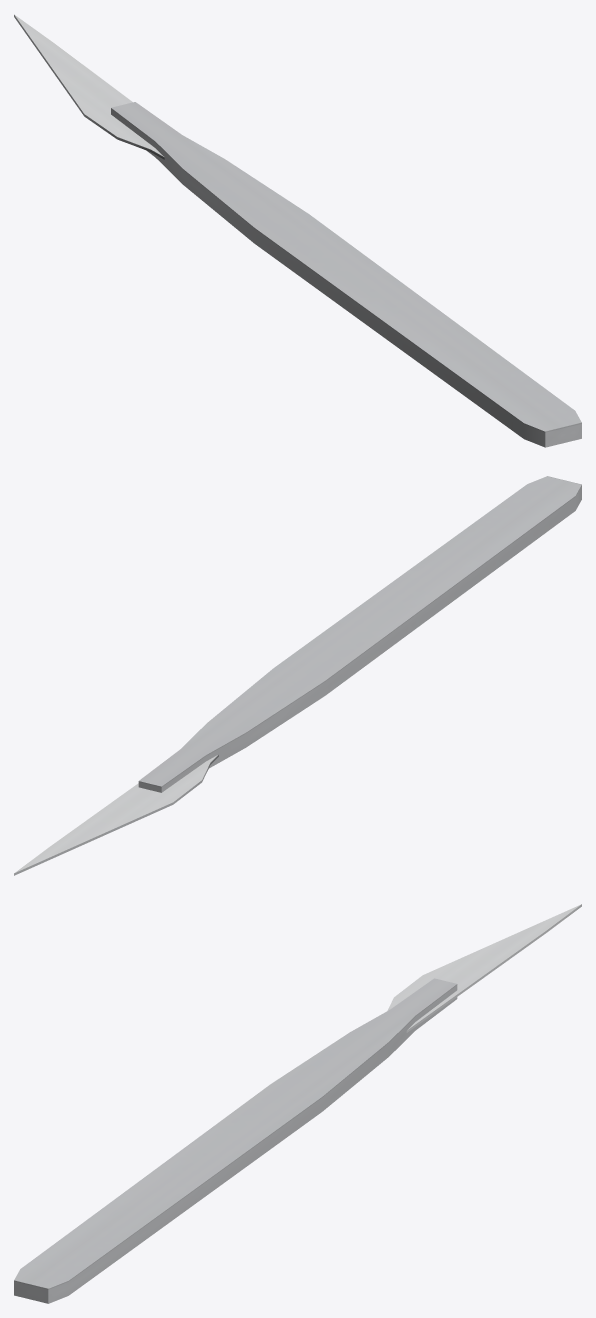
The model's file is scalpel_11.glb.
The picture shows the model from 3 angles, top to bottom: view 1: azimuth 30°, elevation 25°; view 2: azimuth 150°, elevation 25°; view 3: azimuth 330°, elevation 25°; orthographic projection. The views are drawn at different scales.
Parts seen in each view (by area): view 1: s1b_scalpel_11; view 2: s1b_scalpel_11; view 3: s1b_scalpel_11.
Boxes of the visible parts, x1,y1,x2,y2 form: s1b_scalpel_11: (14, 14, 581, 447); s1b_scalpel_11: (14, 476, 581, 875); s1b_scalpel_11: (14, 904, 581, 1303).
Bounding box in the file's own units: 0.0097 × 0.0025 × 0.161.
Materials: 1 (1 with a texture image).
